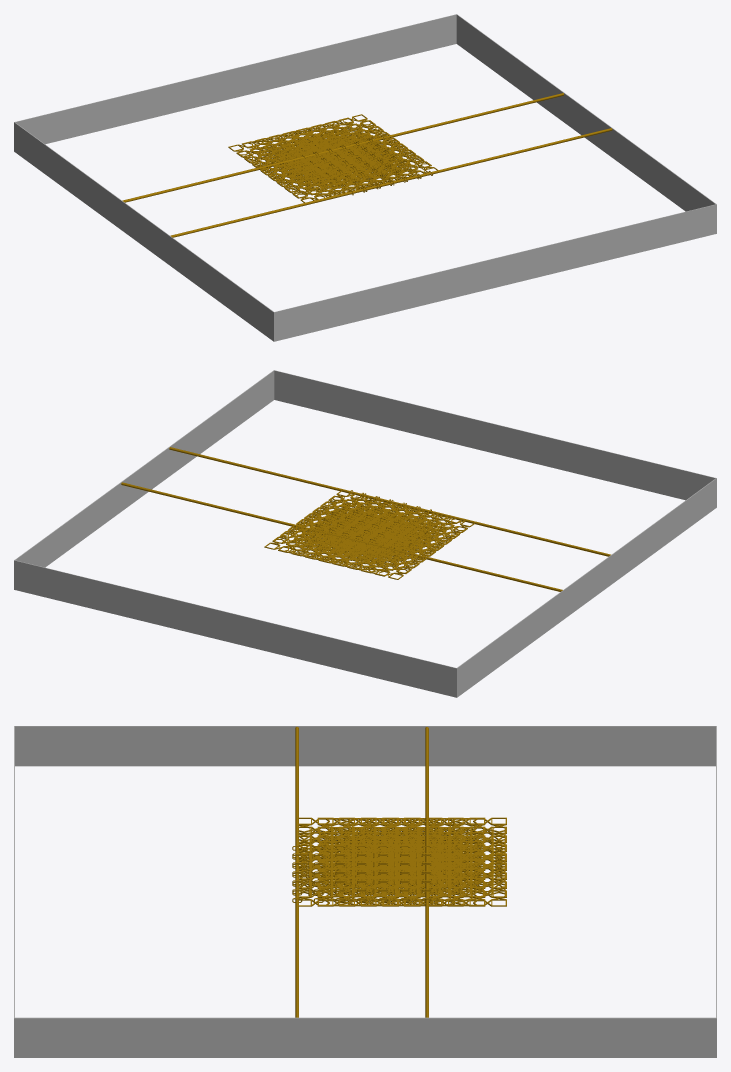
3 views of the same model, one above another, from view 1: azimuth 30°, elevation 25°; view 2: azimuth 150°, elevation 25°; view 3: azimuth 270°, elevation 25° (orthographic). The views are drawn at different scales.
Visible parts, largest first — view 1: Rectangle0, Line110, Line111, Line075, Line075_inst_6, Line074_inst_28, Line074, Line074_inst_29, Line074_inst_22, Line075_inst_2, Line075_inst_5, Line074_inst_6 (+7 smaller); view 2: Rectangle0, Line110, Line111, Line075, Line074, Line075_inst_6, Line075_inst_2, Line074_inst_29, Line074_inst_28, Line074_inst_22, Line074_inst_6, Line075_inst_5 (+8 smaller); view 3: Rectangle0, Line075, Line075_inst_6, Line074, Line110, Line111, Line074_inst_28, Line075_inst_2, Line074_inst_29, Line074_inst_22, Line075_inst_5, Line074_inst_6 (+27 smaller).
Boxes of the visible parts, x1,y1,x2,y2 form: Rectangle0: (14,14,716,341); Line110: (170,128,612,237); Line111: (122,93,563,202); Line075: (228,131,331,175); Line075_inst_6: (296,114,399,155); Line074_inst_28: (268,162,369,202); Line074: (236,136,329,180); Line074_inst_29: (336,143,437,185); Line074_inst_22: (260,157,363,198); Line075_inst_2: (242,127,342,171); Line075_inst_5: (283,117,386,161); Line074_inst_6: (304,120,407,163); Rectangle0: (14,370,716,697); Line110: (169,447,610,556); Line111: (121,482,562,591); Line075: (332,535,435,579); Line074: (340,529,443,573); Line075_inst_6: (264,519,364,563); Line075_inst_2: (318,532,422,576); Line074_inst_29: (304,490,406,531); Line074_inst_28: (381,507,474,550); Line074_inst_22: (375,512,467,556); Line074_inst_6: (272,513,372,557); Line075_inst_5: (278,522,378,566); Rectangle0: (14,726,716,1057); Line075: (404,817,506,861); Line075_inst_6: (404,862,506,906); Line074: (382,817,485,861); Line110: (295,727,298,1017); Line111: (425,727,428,1017); Line074_inst_28: (298,817,398,861); Line075_inst_2: (404,826,506,870); Line074_inst_29: (298,862,398,906); Line074_inst_22: (317,817,420,861); Line075_inst_5: (404,853,506,897); Line074_inst_6: (382,862,485,906).
Bounding box in the file's own units: 1262 × 80.77 × 1283.
